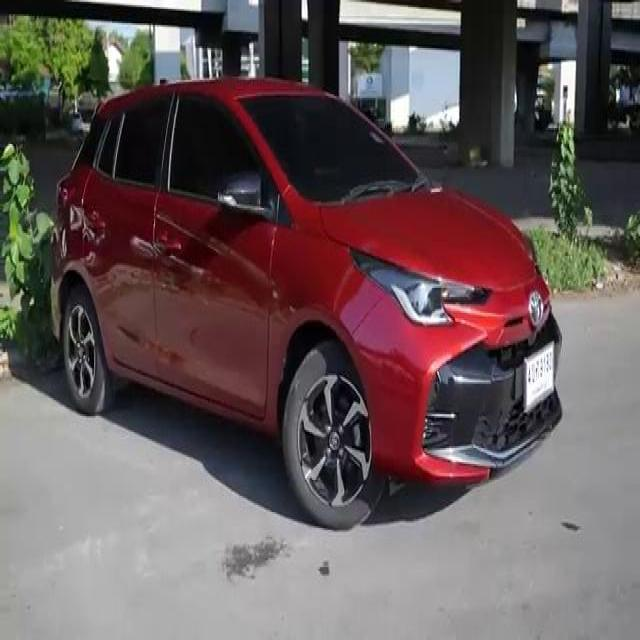Hatchback: (52, 78, 561, 528)
